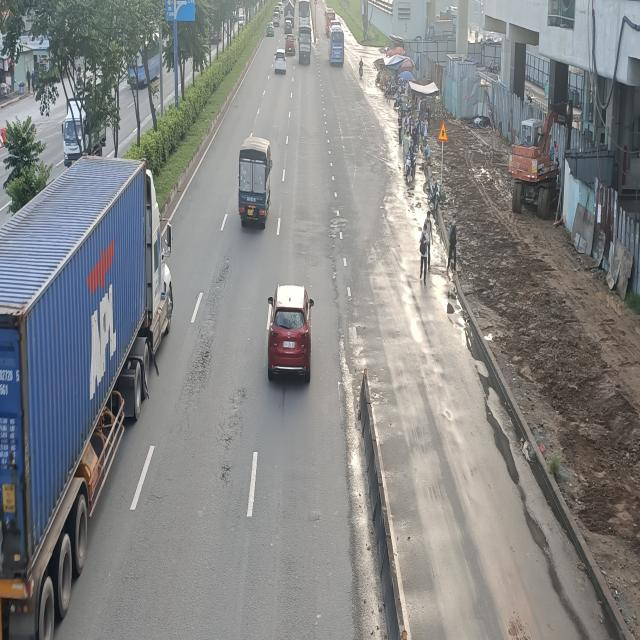car: (266, 287, 314, 387)
coach: (327, 25, 345, 67)
container: (0, 152, 173, 633)
truck: (239, 139, 274, 230)
